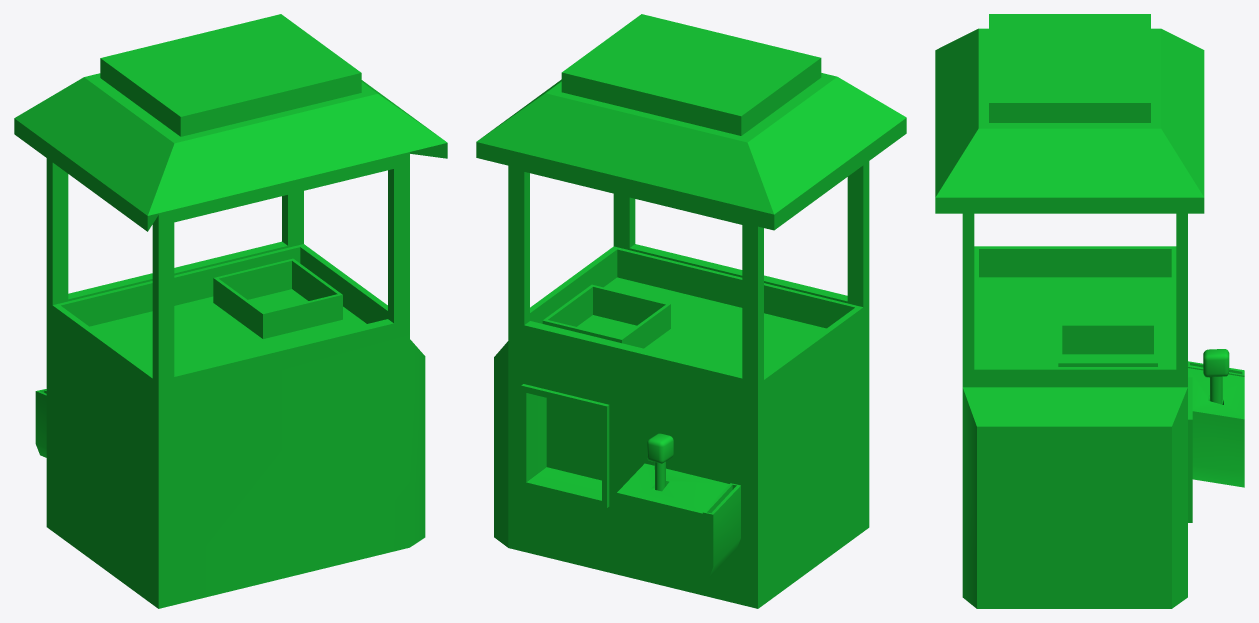
File: ClawMachine.fbx
3 renders of one model, left to right at view 1: azimuth 30°, elevation 25°; view 2: azimuth 150°, elevation 25°; view 3: azimuth 270°, elevation 25°, orthographic.
Visible parts, largest first — view 1: Box003; view 2: Box003; view 3: Box003.
Part boxes in pixels (x1=…): Box003: x1=14, y1=14, x2=447, y2=608; Box003: x1=476, y1=14, x2=906, y2=608; Box003: x1=935, y1=14, x2=1244, y2=608.
Bounding box in the file's own units: 56.7 × 85.65 × 50.23.
